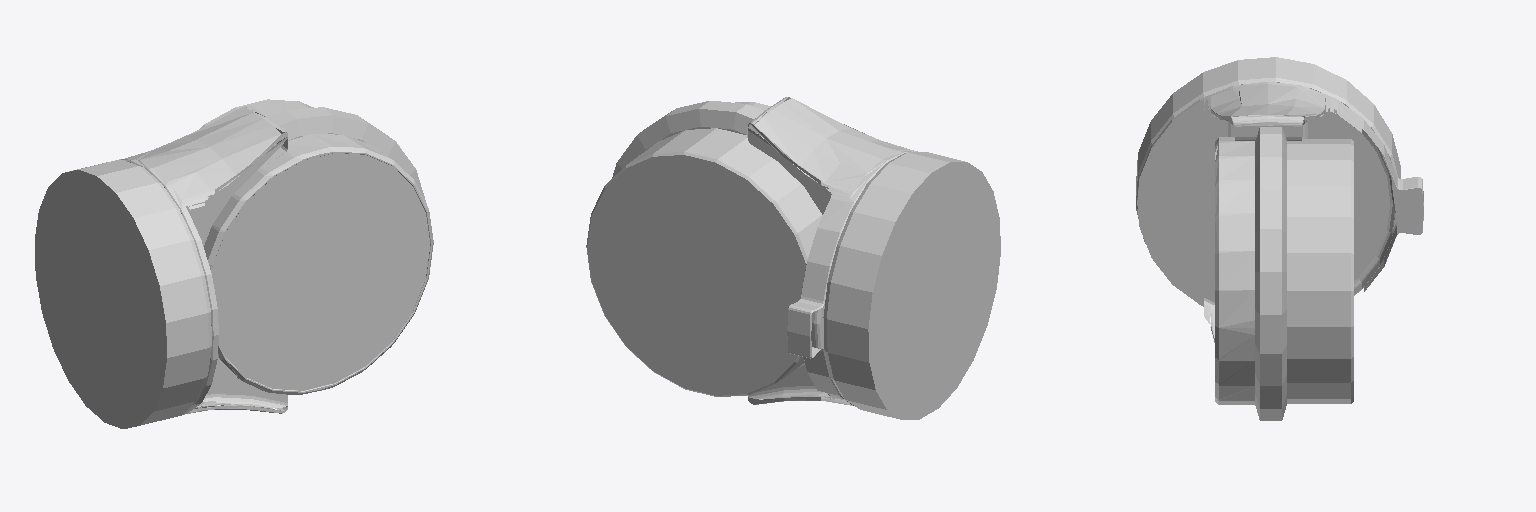
The model's file is FR_hip.obj.
3 views of the same model, side by side, from view 1: azimuth 30°, elevation 25°; view 2: azimuth 150°, elevation 25°; view 3: azimuth 270°, elevation 25° (orthographic).
Visible parts, largest first — view 1: object23_019-mesh; view 2: object23_019-mesh; view 3: object23_019-mesh.
Part boxes in pixels (x1,y1,x2,y2): object23_019-mesh: (35, 99, 433, 428); object23_019-mesh: (586, 97, 1000, 419); object23_019-mesh: (1136, 57, 1423, 420).
Size of the model in its own units: 0.1499 by 0.1262 by 0.1164.